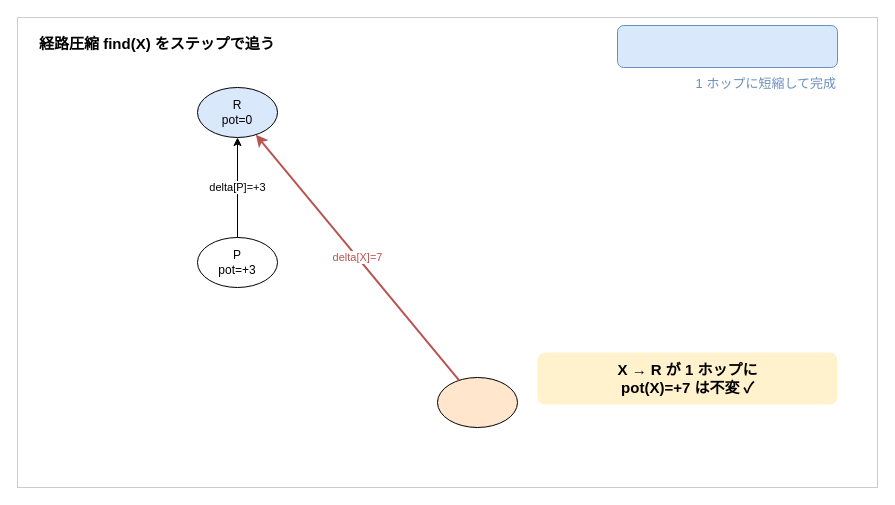
This 895x505 diagram has some shape labels left out. The shapes that lost their labels are listed below. From the top down, each one's box as (x1, y1, x2, y2) in pixels, then its label:
(616, 24, 838, 68): STEP 5 / 5
(436, 376, 518, 428): X pot=+7
